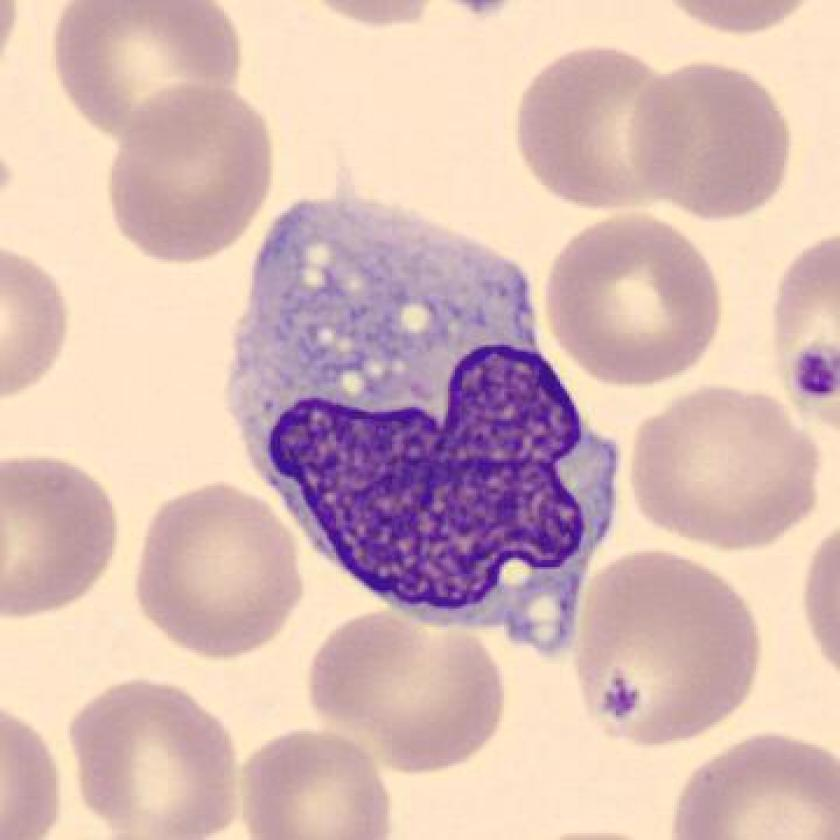monocyte: (204, 172, 650, 677)
